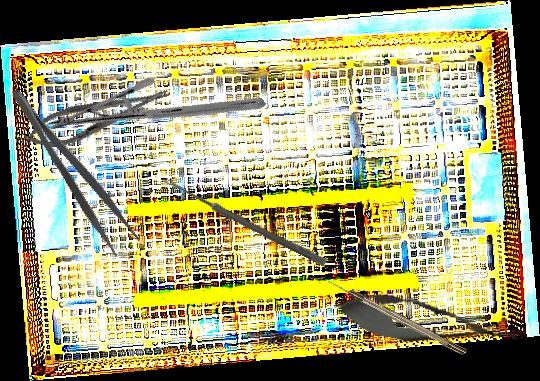Dressing Forceps: (5, 75, 143, 260)
Hook Surgical: (326, 276, 468, 358)
Micro Scissor: (330, 284, 524, 360)
Needle Holder: (47, 14, 267, 214), (20, 76, 174, 158)
Surgical Spoon: (162, 176, 328, 267)
